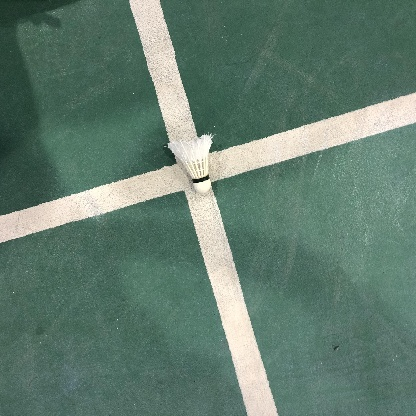ball_single: (168, 134, 212, 193)
